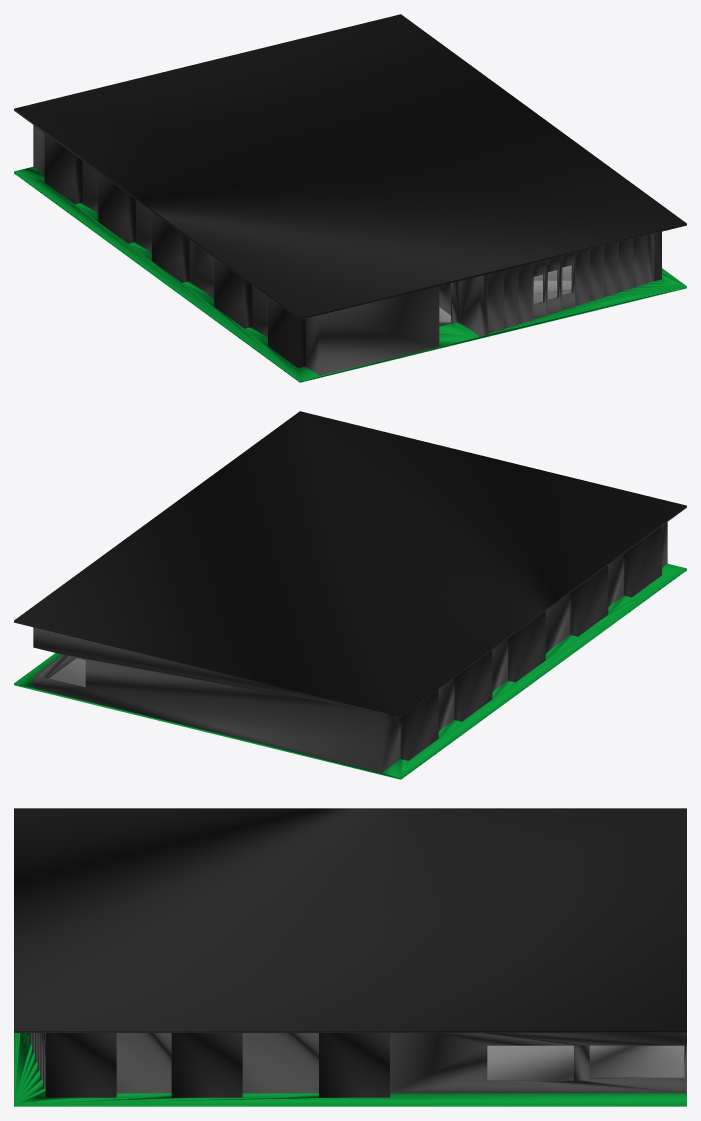
The model's file is Apt house.fbx.
3 views of the same model, one above another, from view 1: azimuth 30°, elevation 25°; view 2: azimuth 150°, elevation 25°; view 3: azimuth 270°, elevation 25° (orthographic). The views are drawn at different scales.
Visible parts, largest first — view 1: Apt house.001; view 2: Apt house.001; view 3: Apt house.001.
Part boxes in pixels (bbox=[...]): Apt house.001: bbox=[14, 14, 686, 382]; Apt house.001: bbox=[14, 411, 686, 779]; Apt house.001: bbox=[14, 808, 686, 1106].
Size of the model in its own units: 20 by 3.2 by 25.6.
1 material, 1 textured.
